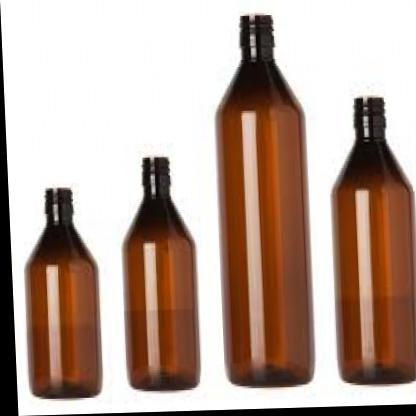trash: (217, 15, 312, 386), (333, 97, 415, 383), (123, 157, 198, 389), (26, 188, 100, 397)
